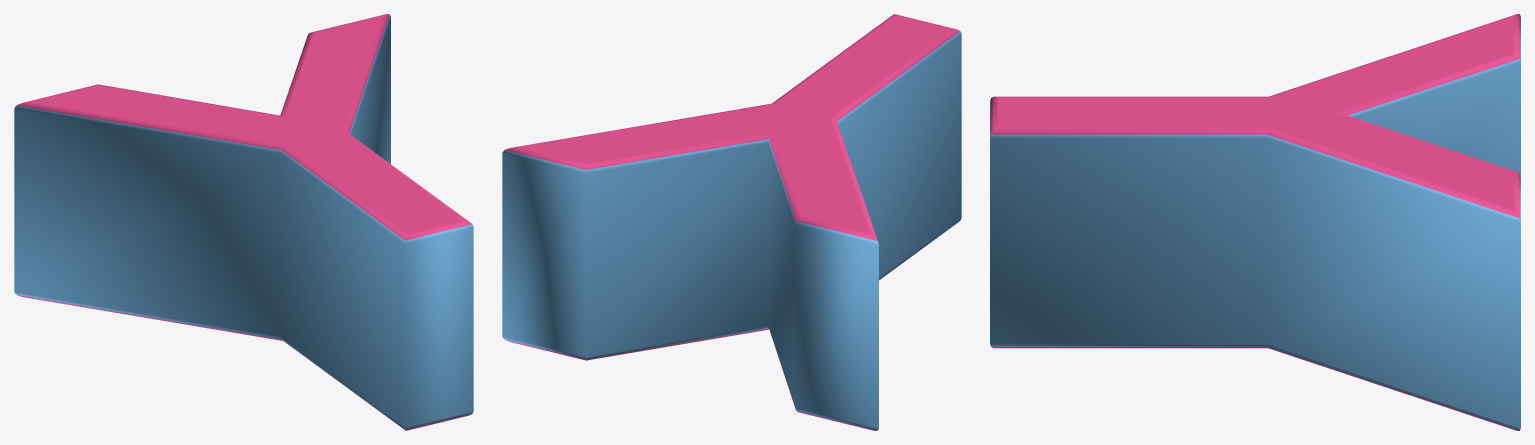
Rendered from letter_Y.fbx.
The picture shows the model from 3 angles, left to right: view 1: azimuth 30°, elevation 25°; view 2: azimuth 150°, elevation 25°; view 3: azimuth 270°, elevation 25°; orthographic projection. The views are drawn at different scales.
Visible parts, largest first — view 1: Letter_Y; view 2: Letter_Y; view 3: Letter_Y.
Part boxes in pixels (x1,y1,x2,y2): Letter_Y: [14, 14, 473, 430]; Letter_Y: [502, 14, 961, 430]; Letter_Y: [990, 14, 1520, 430].
Size of the model in its own units: 64.52 by 32 by 70.2.
